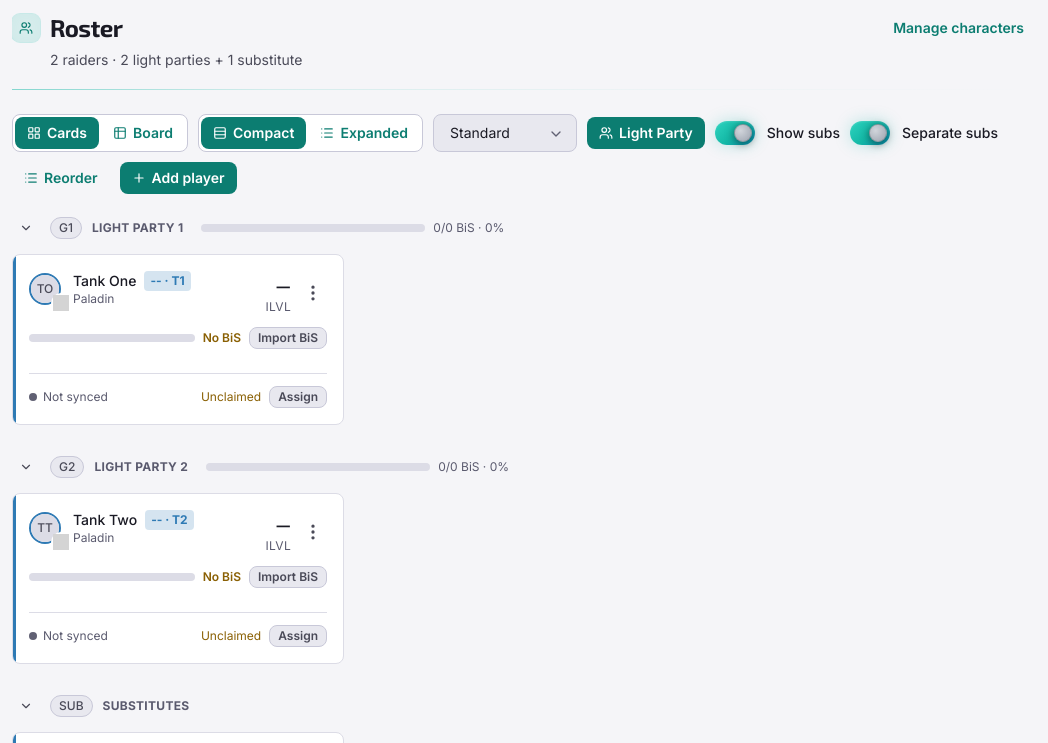
Test case: Roster — C6 toolbar restorations › folds one section from its chevron and persists it per static+tier
The width and height of the screenshot is (1048, 743).
Click the button named "collapse light party 1" at (26, 228), box [12,214,40,242]
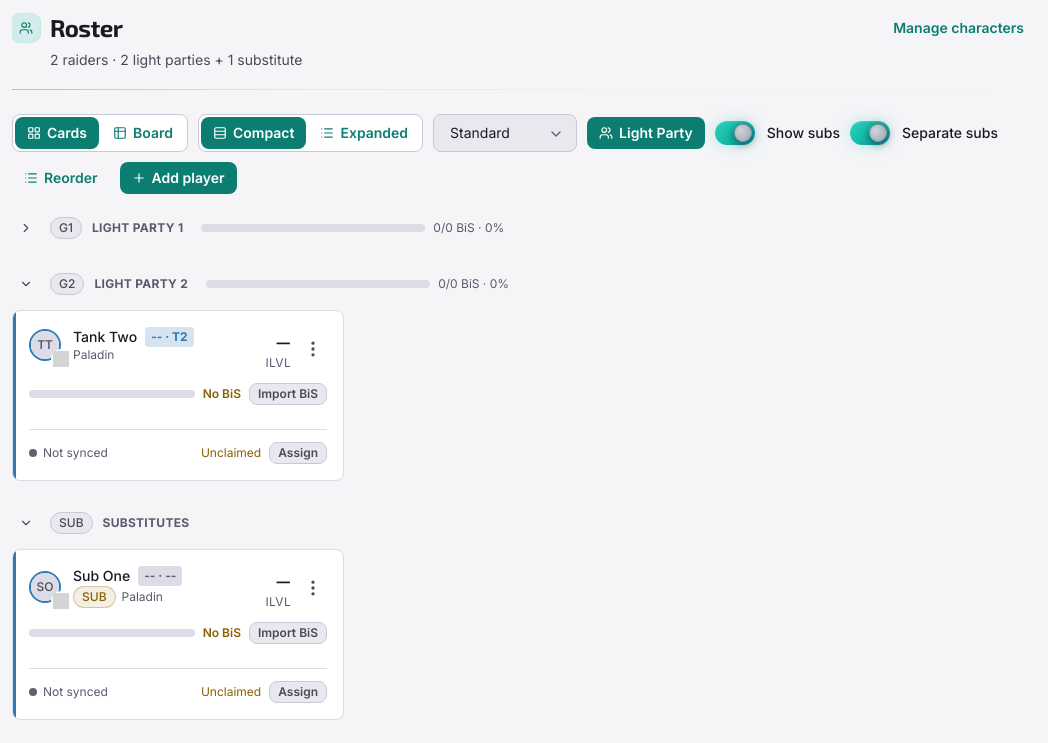
Expected: the text "Tank Two" is shown, [73,327,137,347]
Expected: the text "Tank One" is gone
